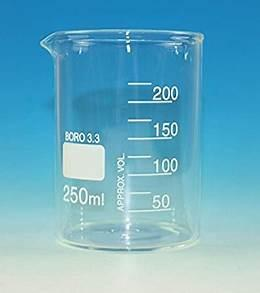Beaker: (40, 19, 203, 252)
